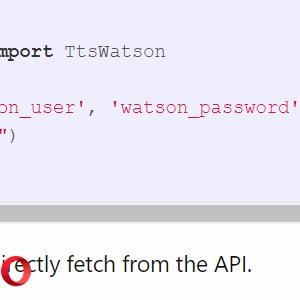opera: (1, 255, 31, 286)
